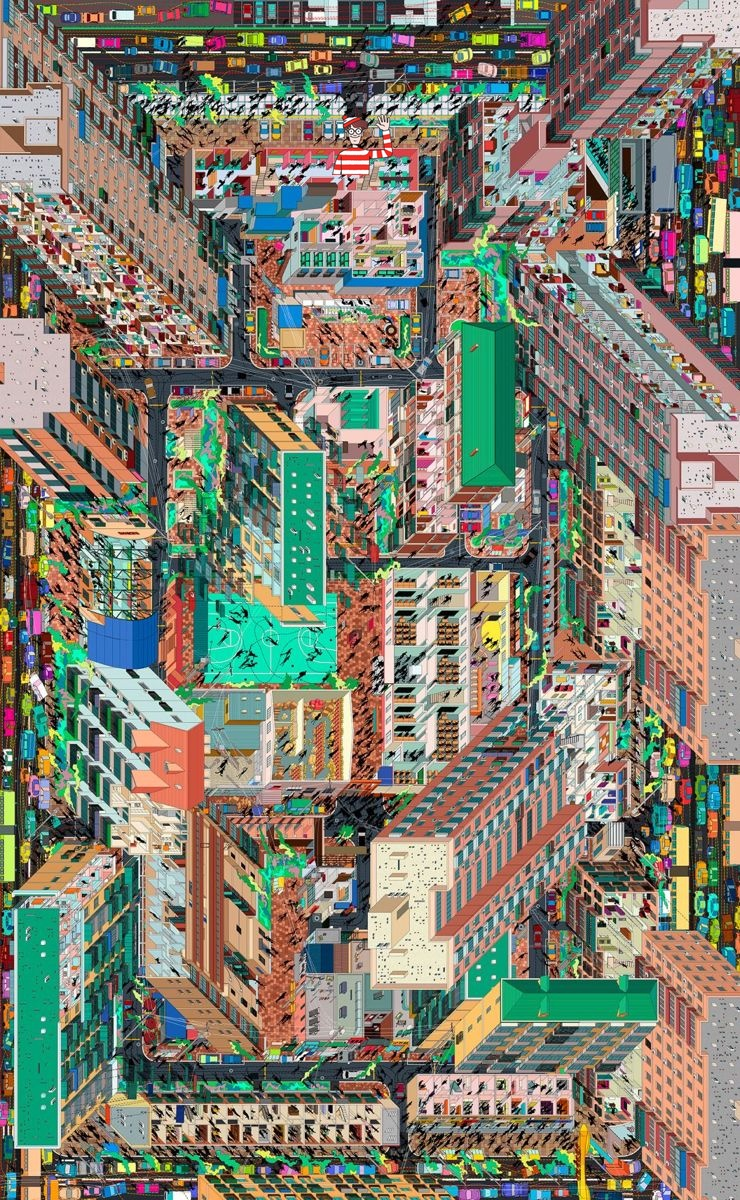waldo: (332, 114, 393, 175)
